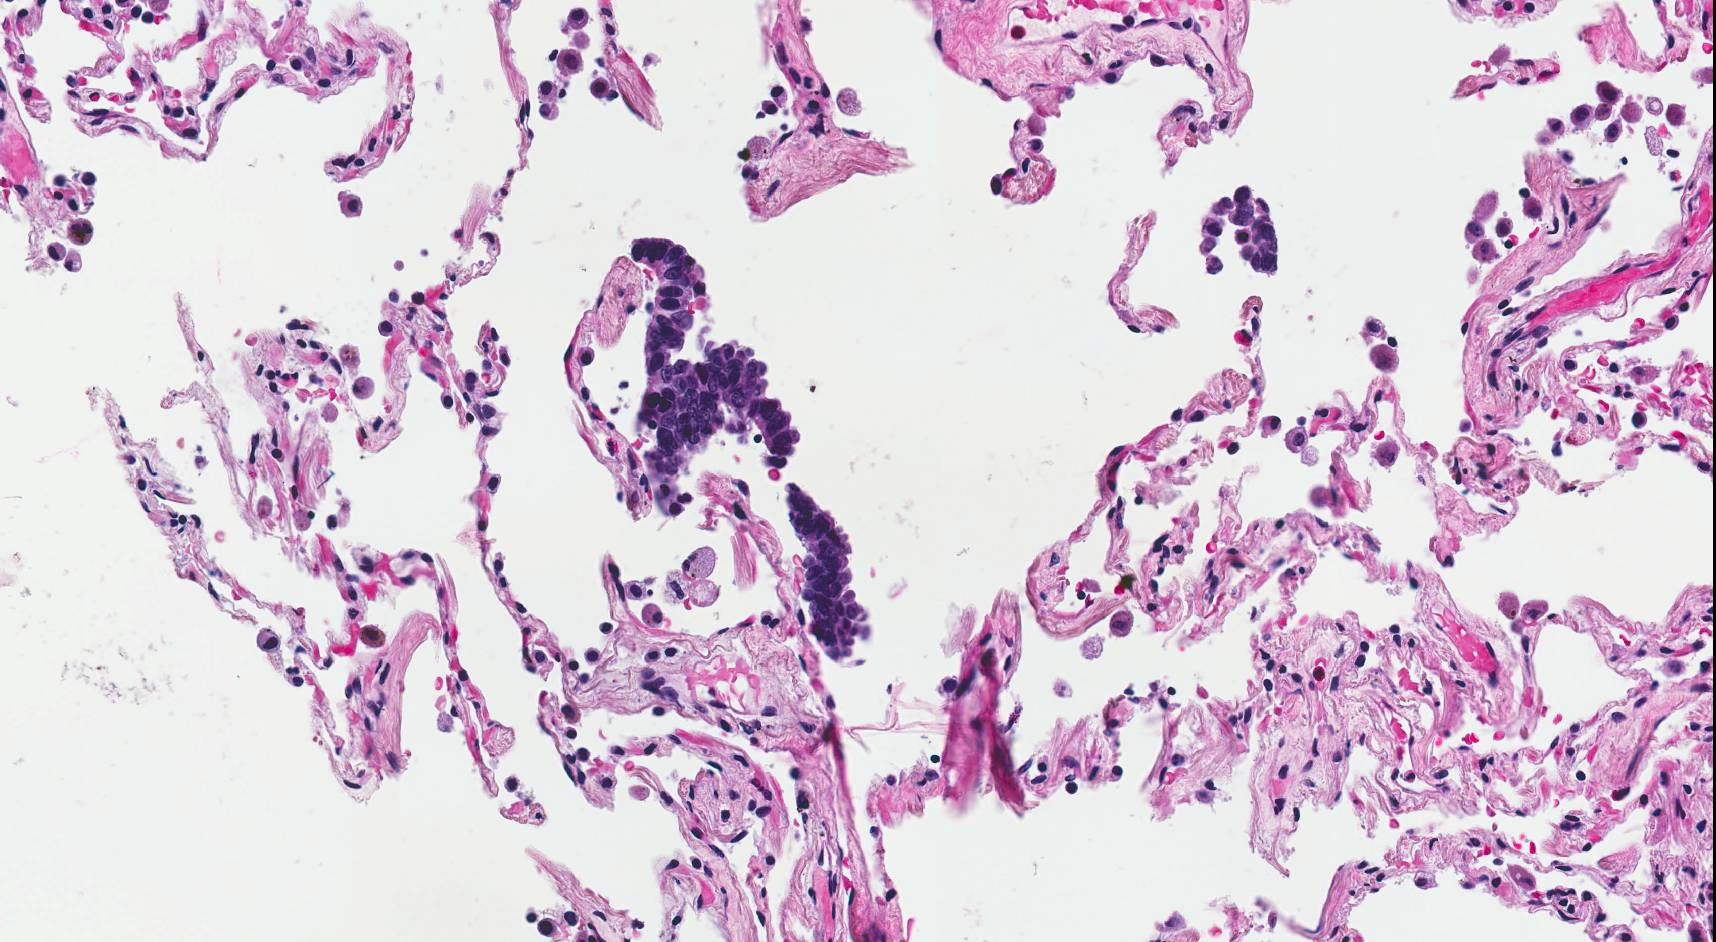stas: (630, 235, 803, 477), (782, 481, 878, 666), (1196, 184, 1284, 282)
